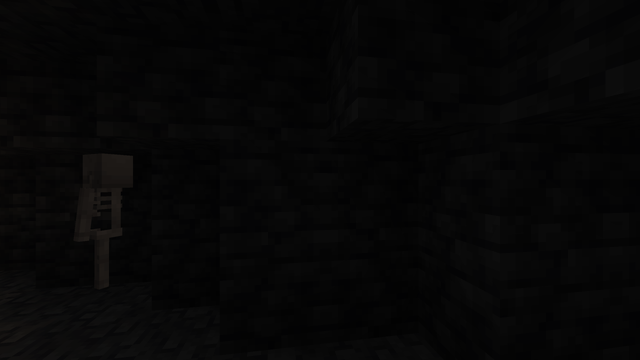squelettes: (74, 153, 132, 293)
